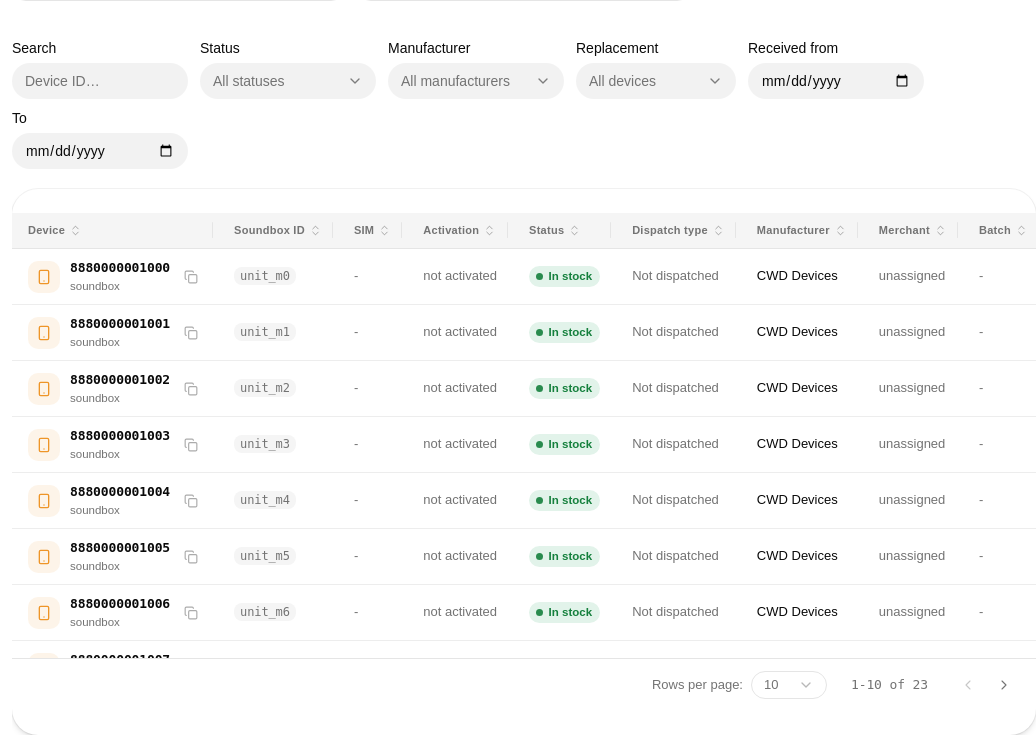
Test: InventoryPage › paginates: the footer states the visible range out of the total
(page scrolled)
Expected: the text "1-10 of 23" is shown, [851, 676, 928, 694]
Click the button named "next page": (1004, 685) [988, 669, 1020, 701]
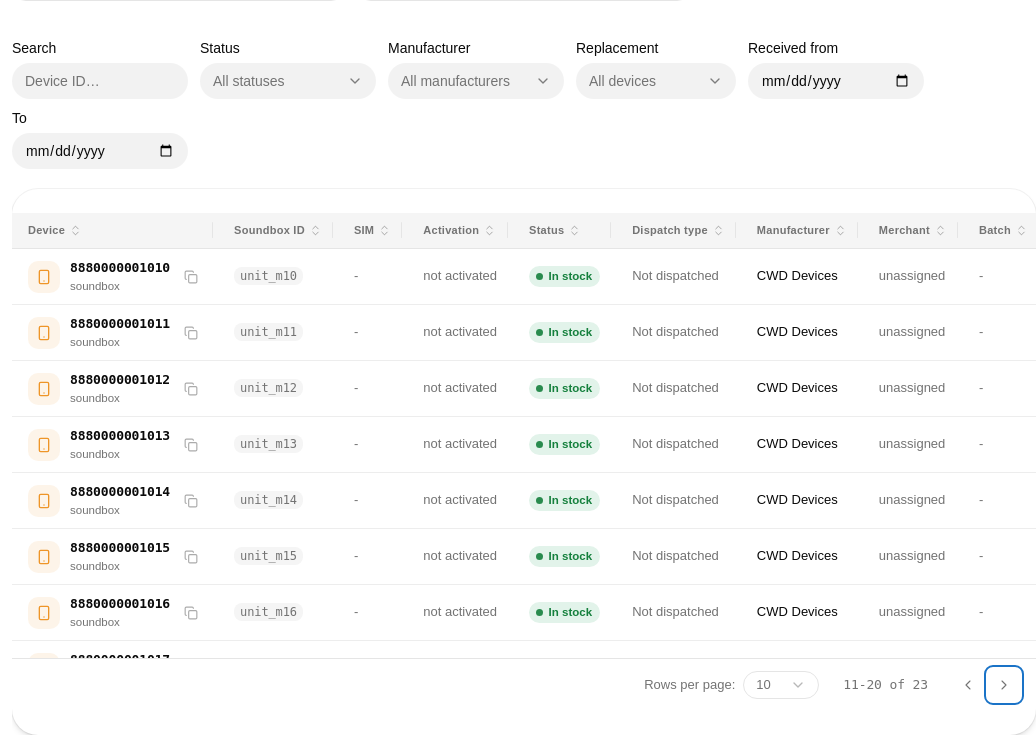
Now the text "11-20 of 23" is shown, box [843, 676, 928, 694]
